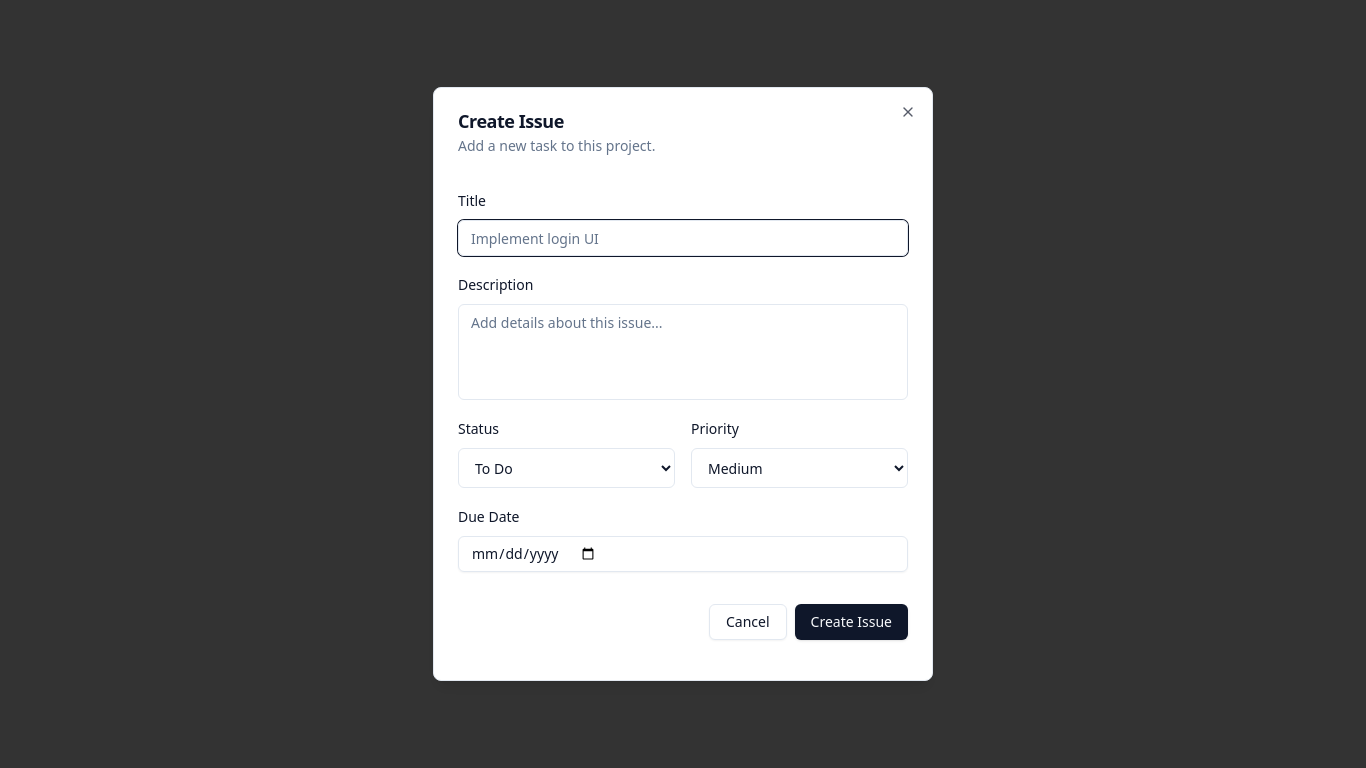
Test case: IssueForm › shows a validation error for a short title
Type "ab" into the field labelled "Title".
click(683, 238); type("ab")  # box [458,220,908,256]
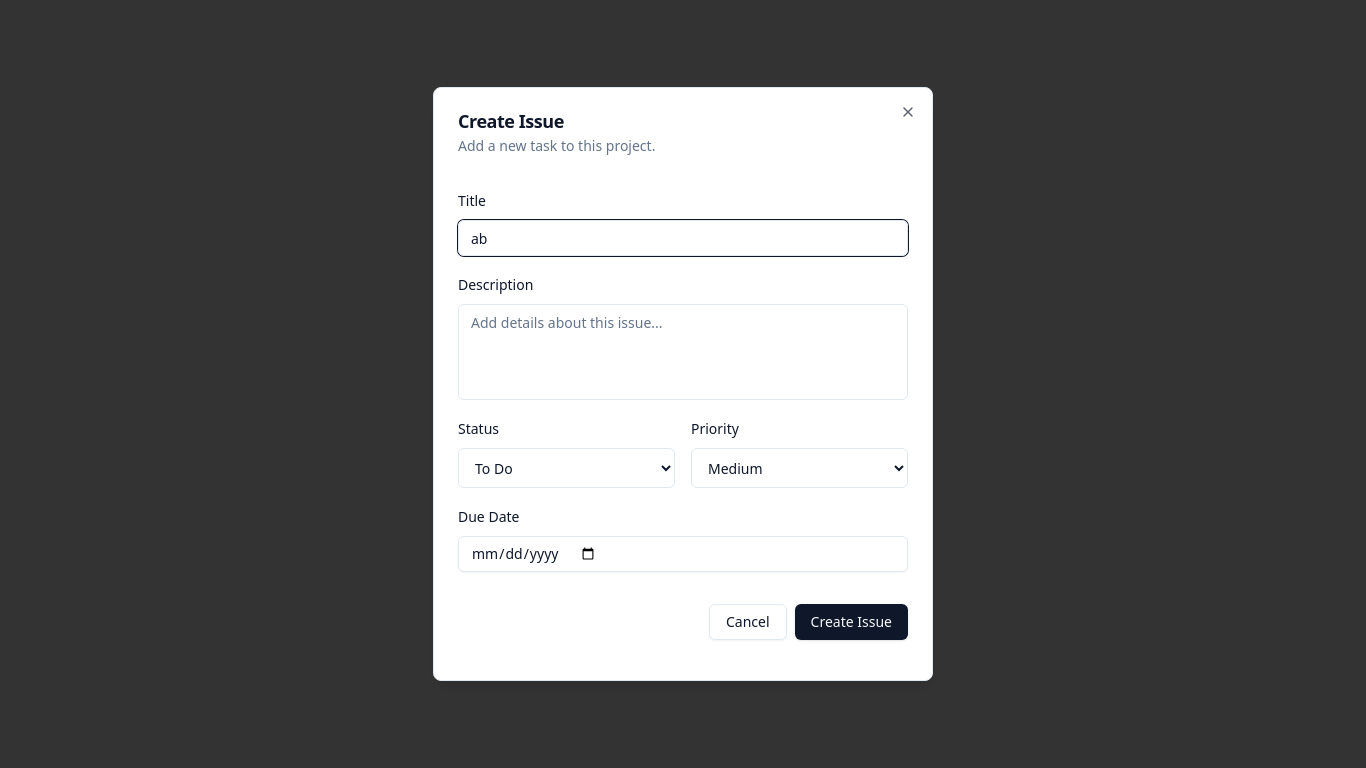
Click the button "Create Issue".
click(851, 622)  # box [795,604,908,640]
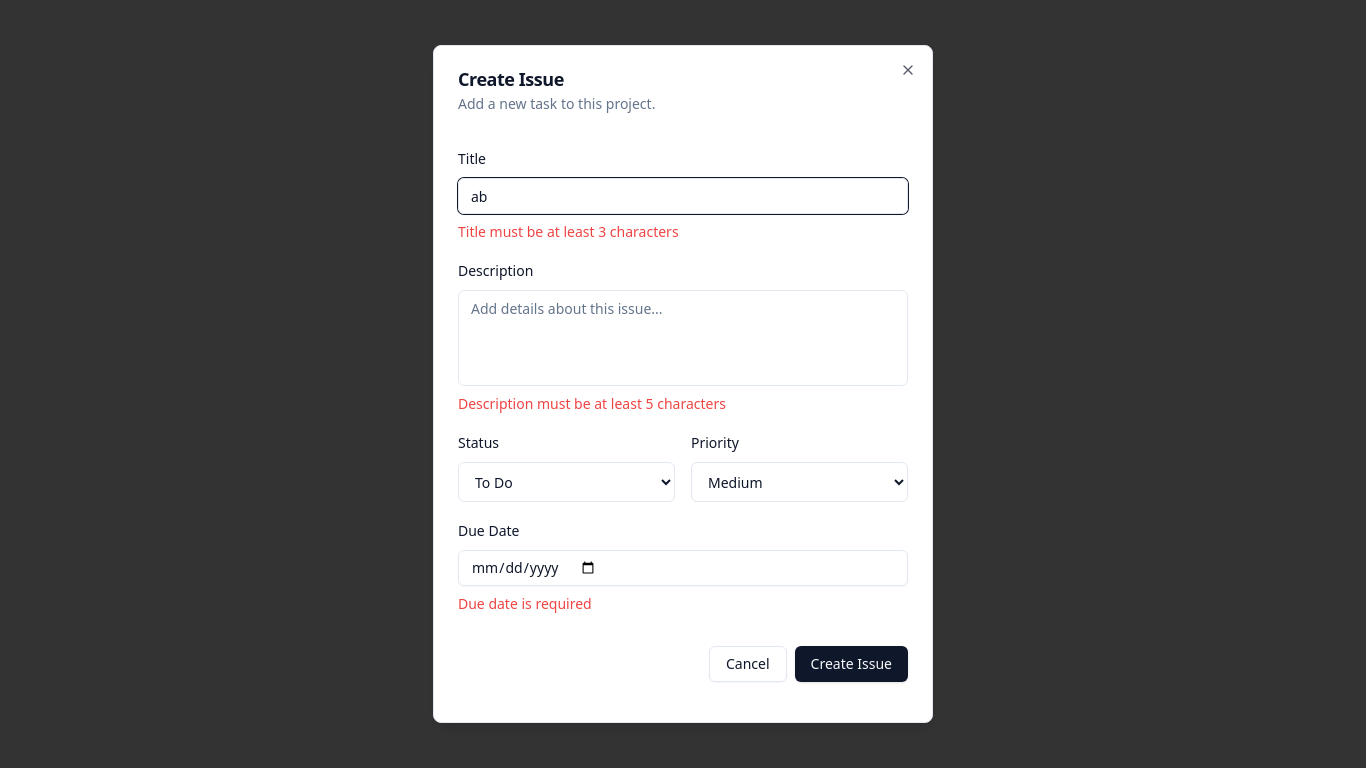
Result: the text "Title must be at least 3 characters" is shown at [458,222,679,241]
